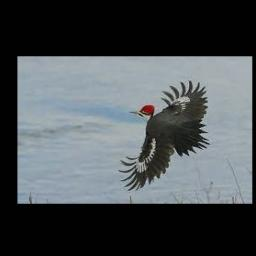Woodpecker: (117, 79, 210, 190)
